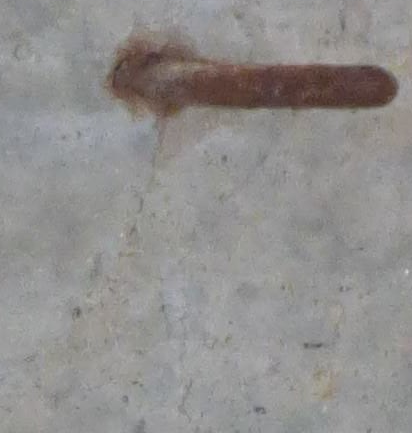Exposed reinforcement: (129, 59, 398, 111)
